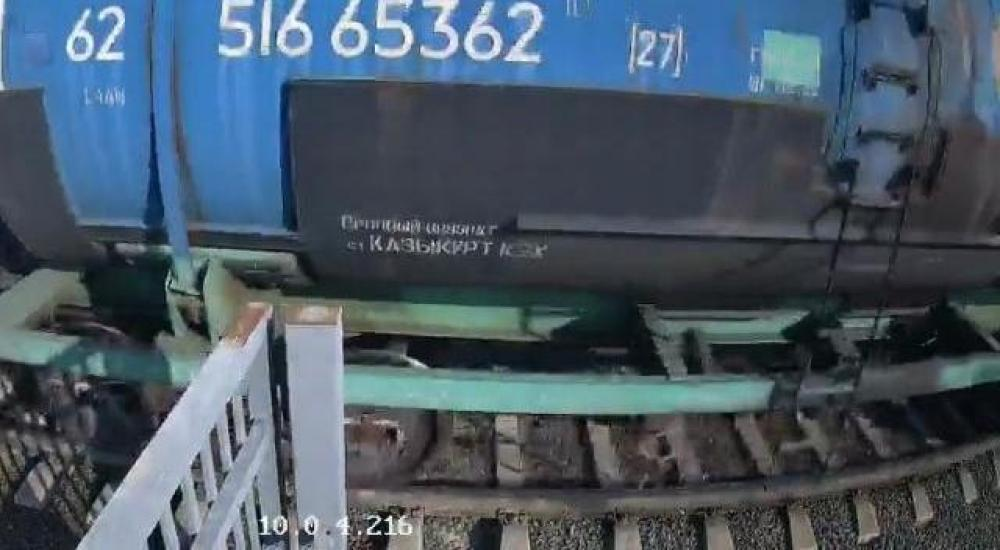Wagon-number: (212, 0, 547, 67)
